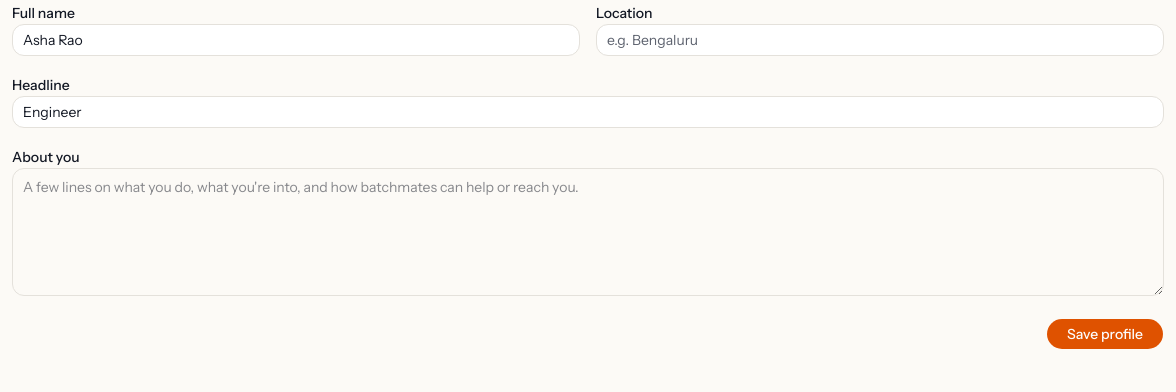
Test case: ProfileForm › shows the per-field error the action returns
Click the button "Save profile".
click(1105, 334)  # box [1046,318,1164,350]
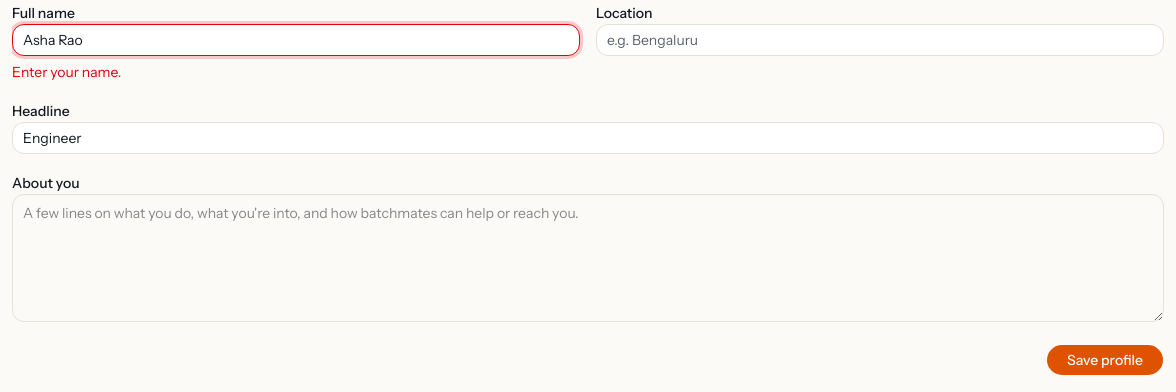
Expected: the text "Enter your name." is shown, [12,63,121,81]
